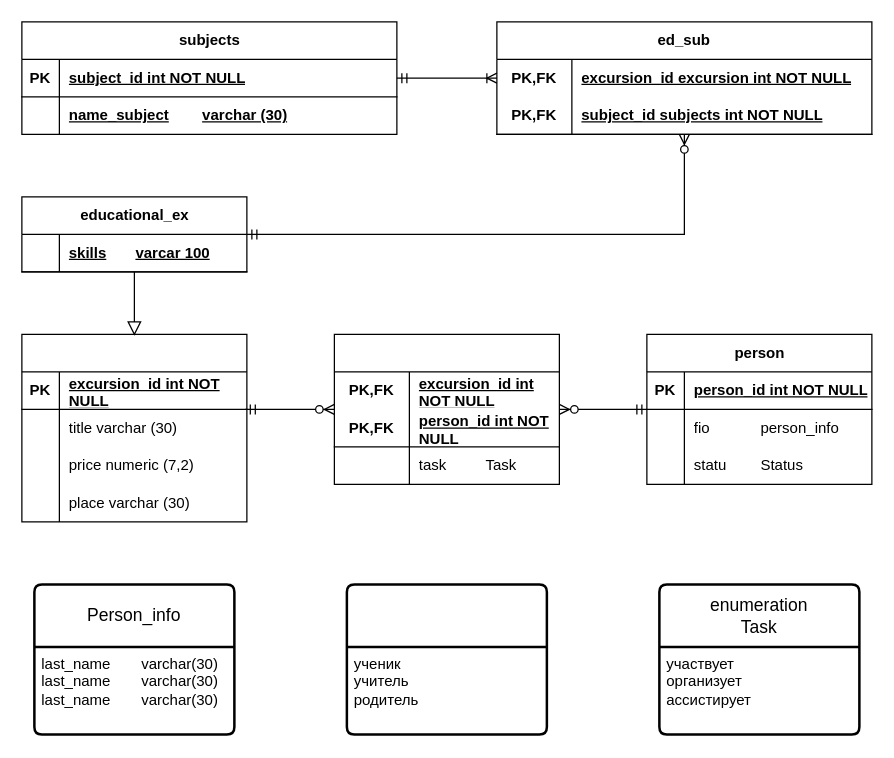
Some shapes in this 894 by 758 pixel diagram are drawn without their labels. Each missing label, with the box of its shape:
entertainment_excursion: (21, 333, 247, 522)
enumeration Status: (345, 582, 548, 735)
person_excursion: (333, 333, 559, 484)
